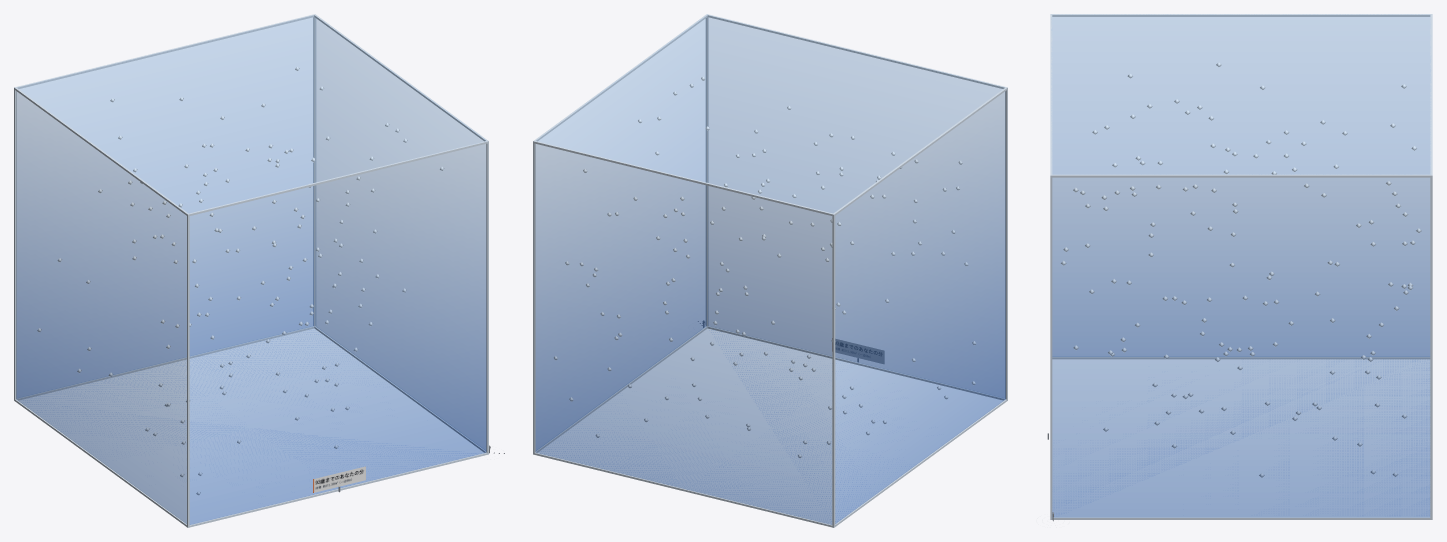
The model's file is cube_life_93.glb.
3 renders of one model, left to right at view 1: azimuth 30°, elevation 25°; view 2: azimuth 150°, elevation 25°; view 3: azimuth 270°, elevation 25°, orthographic. The views are drawn at different scales.
Parts seen in each view (by area): view 1: co2, edge, dots, label; view 2: co2, edge, dots, label; view 3: co2, edge, dots.
Part boxes in pixels (<box>): co2: <box>16,15,486,524</box>; edge: <box>14,14,488,527</box>; dots: <box>37,66,444,495</box>; label: <box>313,466,365,492</box>; co2: <box>535,15,1005,524</box>; edge: <box>533,14,1007,527</box>; dots: <box>554,76,976,458</box>; label: <box>835,339,884,363</box>; co2: <box>1051,15,1430,517</box>; edge: <box>1050,14,1432,519</box>; dots: <box>1060,62,1421,477</box>.
Size of the model in its own units: 71.69 by 67.92 by 70.79.
8 materials, 3 textured.
